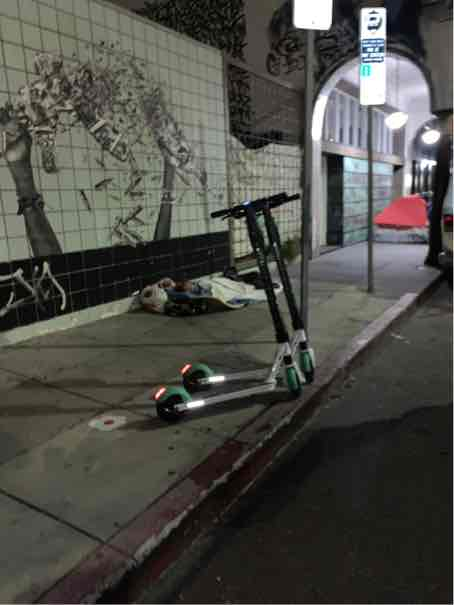too close: (284, 332, 351, 394), (263, 369, 317, 422)
